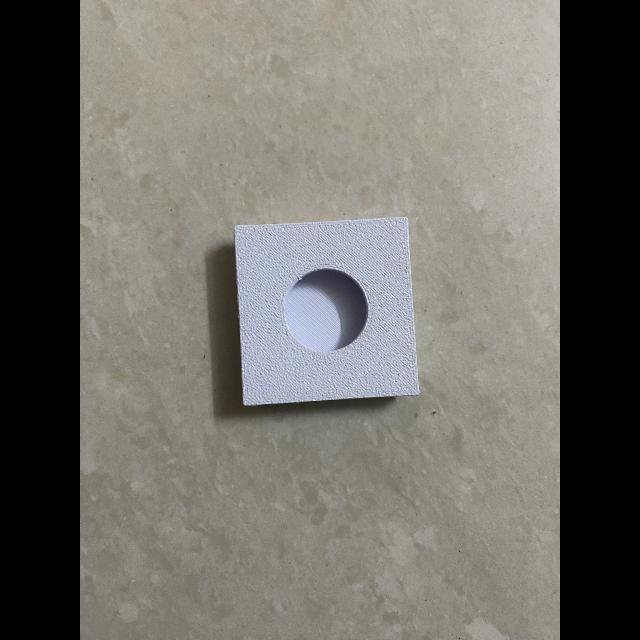RASPBERY PI CAM ENCLOSURE: (234, 217, 420, 406)
